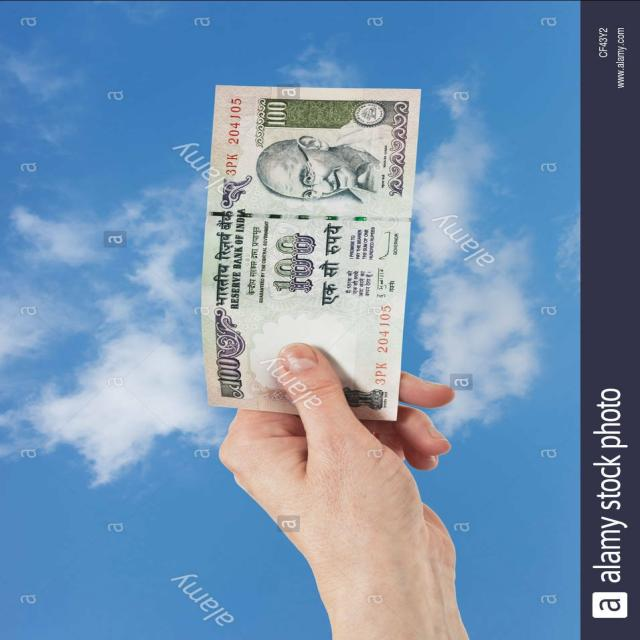100IndianRupees: (206, 88, 424, 412)
